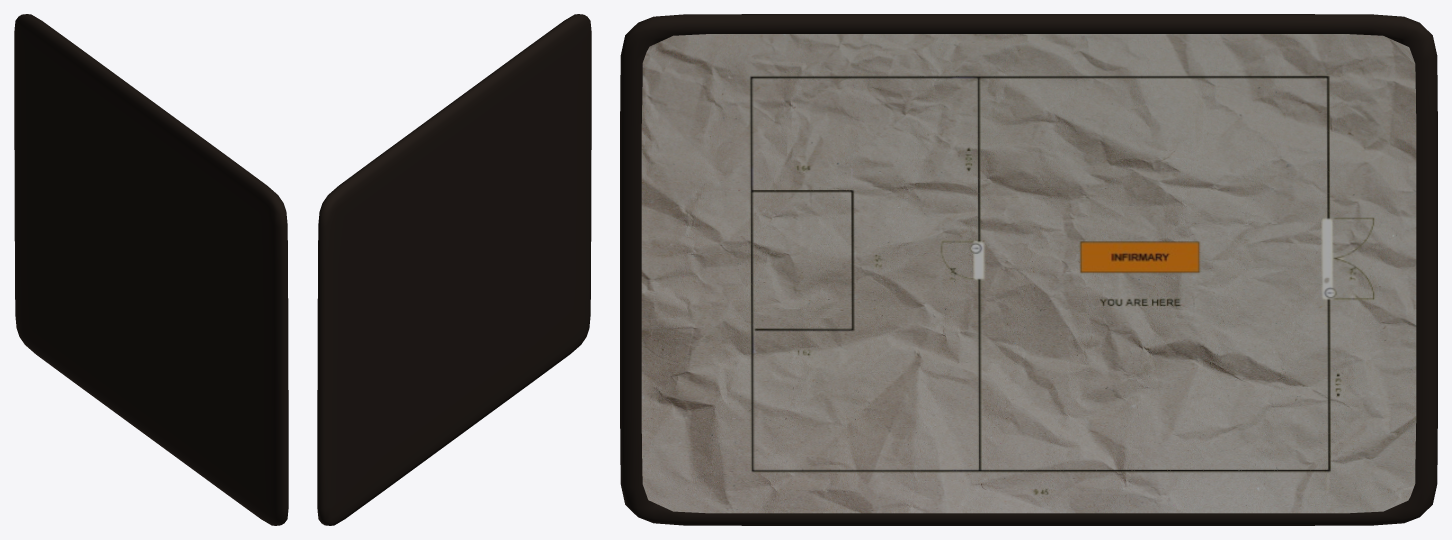
File: MappaInfermeria.fbx
3 renders of one model, left to right at view 1: azimuth 30°, elevation 25°; view 2: azimuth 150°, elevation 25°; view 3: azimuth 270°, elevation 25°, orthographic. The views are drawn at different scales.
Parts seen in each view (by area): view 1: MappaInfermeria; view 2: MappaInfermeria; view 3: MappaInfermeria.
Boxes of the visible parts, x1=… form: MappaInfermeria: x1=14, y1=14, x2=288, y2=525; MappaInfermeria: x1=317, y1=14, x2=591, y2=525; MappaInfermeria: x1=620, y1=14, x2=1437, y2=525.
Size of the model in its own units: 4.41 by 112 by 162.
2 materials, 1 textured.
